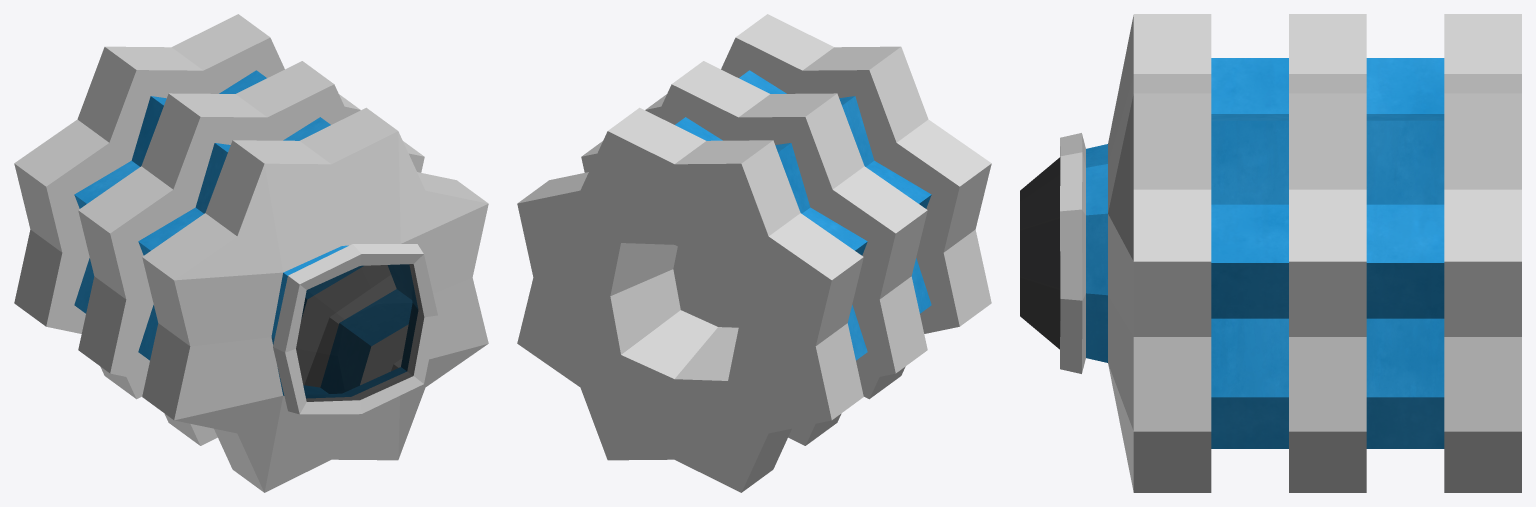
File: Enemy4.fbx
3 renders of one model, left to right at view 1: azimuth 30°, elevation 25°; view 2: azimuth 150°, elevation 25°; view 3: azimuth 270°, elevation 25°, orthographic. The views are drawn at different scales.
Visible parts, largest first — view 1: Enemy4; view 2: Enemy4; view 3: Enemy4.
Part boxes in pixels (box(x1,y1,x2,y2)): Enemy4: box(14, 14, 488, 492); Enemy4: box(517, 14, 991, 492); Enemy4: box(1020, 14, 1521, 492).
Size of the model in its own units: 5.01 by 5.01 by 5.71.
